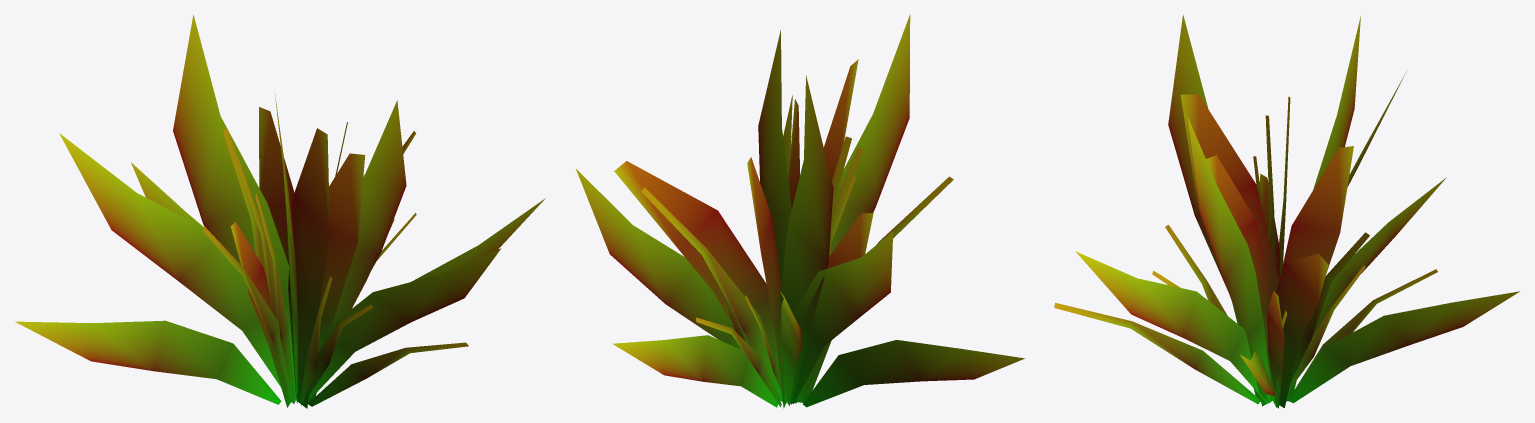
The model's file is tmjhcayia_Var6_LOD2.fbx.
The picture shows the model from 3 angles, left to right: view 1: azimuth 30°, elevation 25°; view 2: azimuth 150°, elevation 25°; view 3: azimuth 270°, elevation 25°; orthographic projection. The views are drawn at different scales.
Parts seen in each view (by area): view 1: Var6_LOD2; view 2: Var6_LOD2; view 3: Var6_LOD2.
Part boxes in pixels (<box>): Var6_LOD2: <box>15,14,545,408</box>; Var6_LOD2: <box>575,14,1024,408</box>; Var6_LOD2: <box>1054,14,1519,408</box>.
Size of the model in its own units: 11.42 by 8.31 by 9.76.
